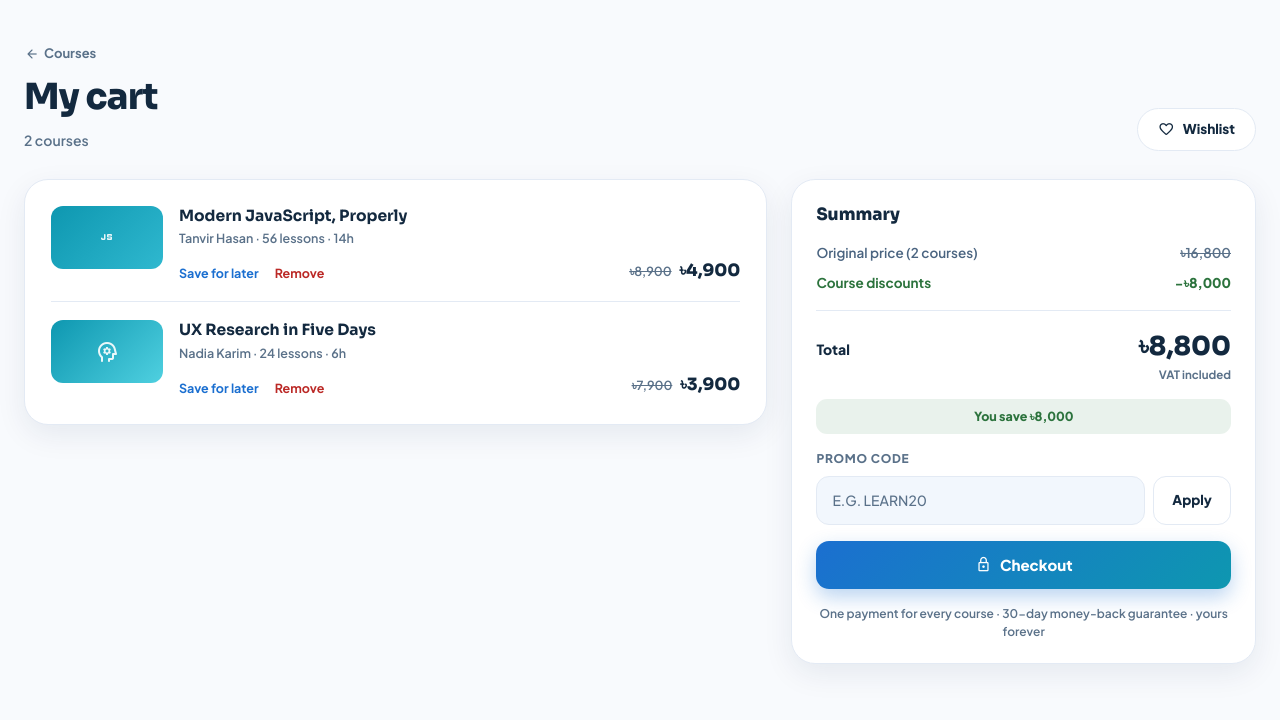
Test case: wishlist and cart (F-004) › lists cart courses with the total and removes them
Check: the text "৳16,800" is shown, box 1180,243 -> 1231,263
Check: the text "−৳8,000" is shown, box 1175,273 -> 1231,294
Note: a promo applied in the cart lowers the total and travels to checkout
Type "learn20" into the field labelled "PROMO CODE" at x=981, y=500, box 816,476 -> 1145,524
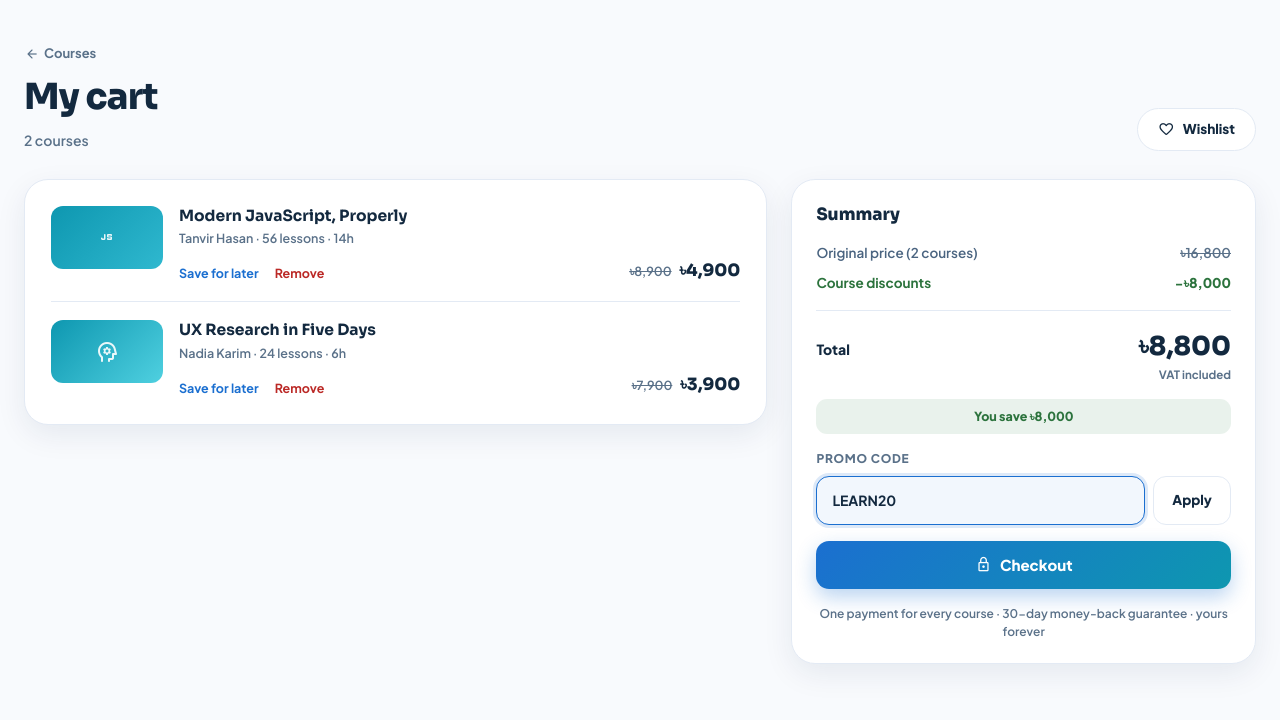
Click the button "Apply" at x=1192, y=500, box 1153,476 -> 1231,524
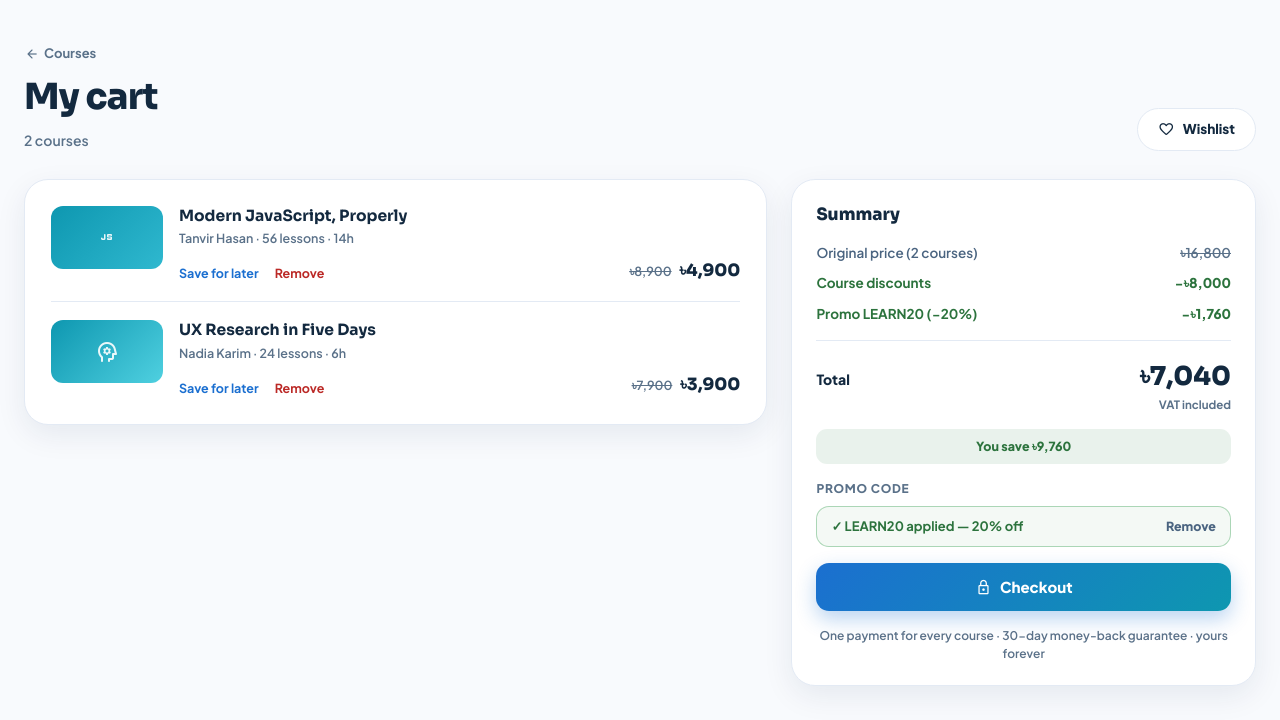
Check: the text "✓ LEARN20 applied — 20% off" is shown, box 831,517 -> 1024,536
Check: the text "৳7,040" is shown, box 1140,357 -> 1231,396
Click the button with aria-label "Remove Modern JavaScript, Properly from cart" at x=299, y=274, box 275,264 -> 324,283
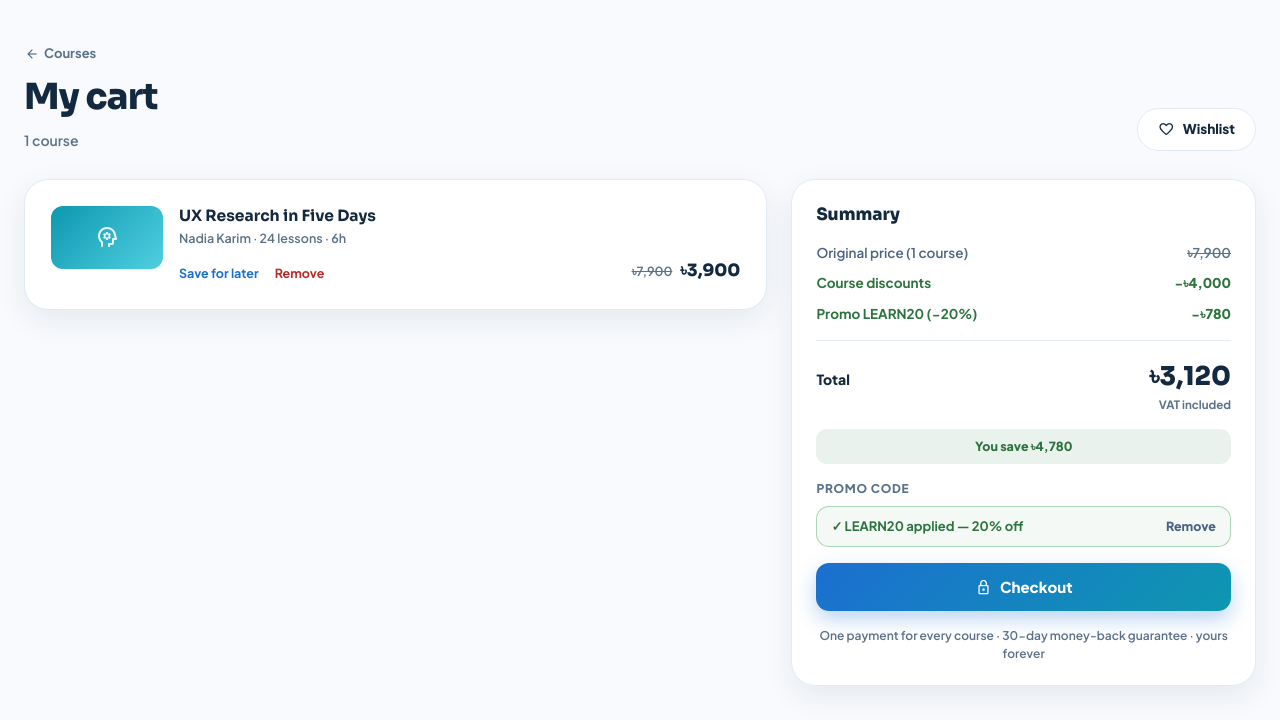
Check: the text "৳7,900" in the row of "Original price (" is shown, box 1187,244 -> 1231,261
